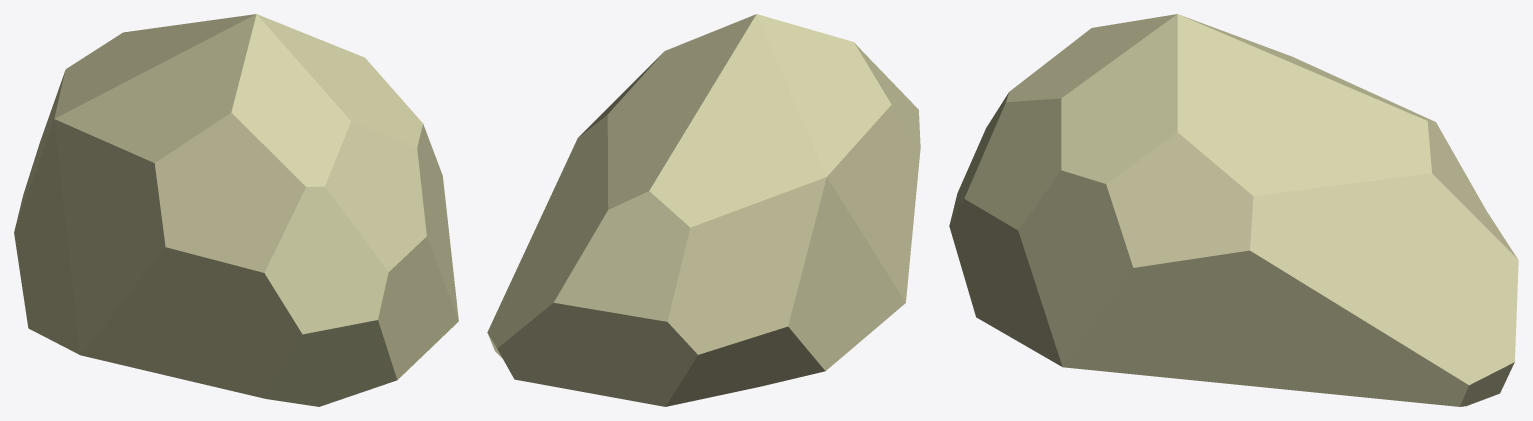
The model's file is roca5.glb.
3 renders of one model, left to right at view 1: azimuth 30°, elevation 25°; view 2: azimuth 150°, elevation 25°; view 3: azimuth 270°, elevation 25°, orthographic. The views are drawn at different scales.
Visible parts, largest first — view 1: Icosphere; view 2: Icosphere; view 3: Icosphere.
Boxes of the visible parts, x1=… form: Icosphere: x1=14, y1=14, x2=458, y2=406; Icosphere: x1=487, y1=14, x2=920, y2=406; Icosphere: x1=949, y1=14, x2=1518, y2=406.
Bounding box in the file's own units: 1.78 × 1.79 × 2.61.
